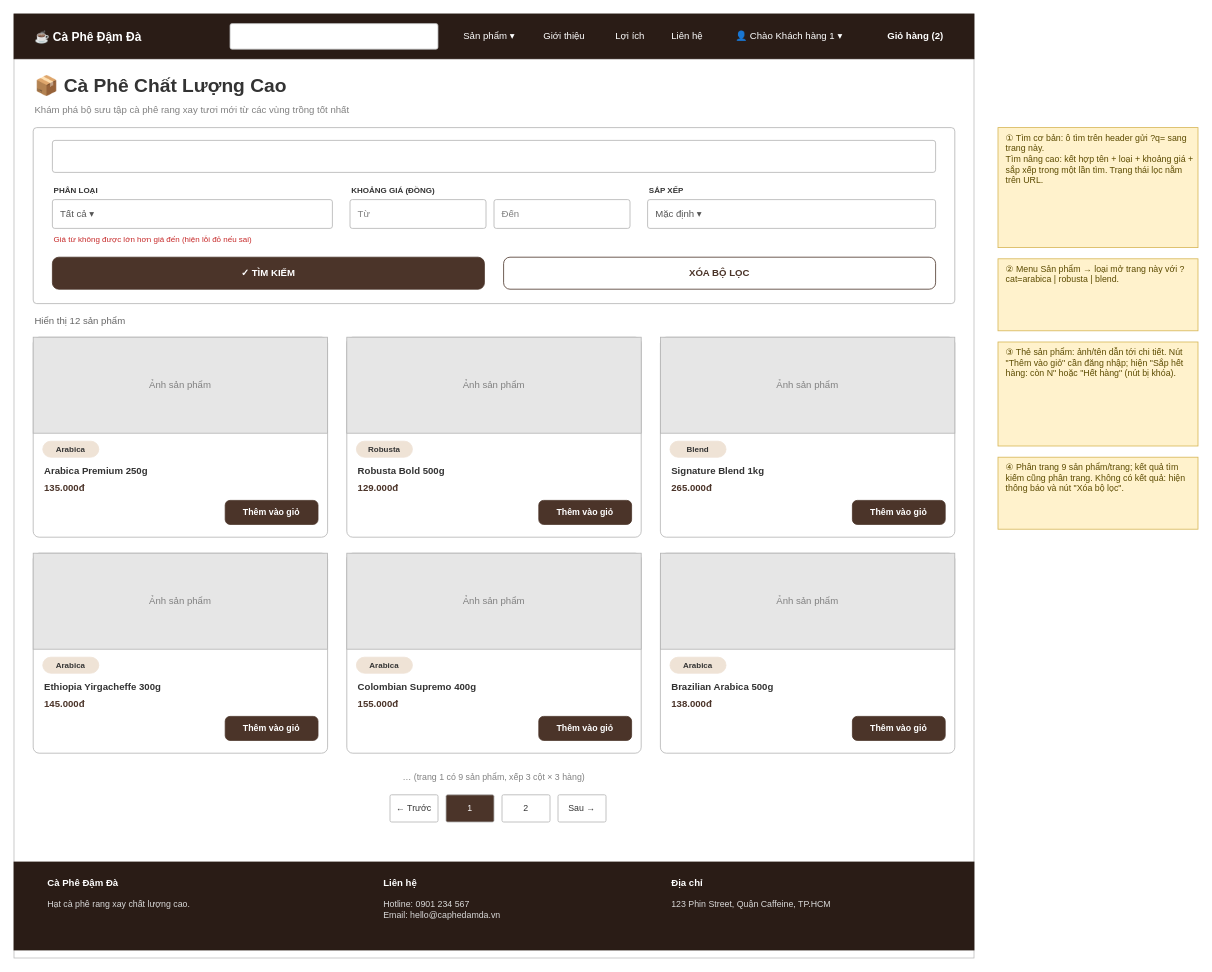
Some shapes in this 1212 by 972 pixel diagram are drawn without their labels. The shapes that lost their labels are listed below. From the top down, each one's centre as x and y in pixels, then its label:
the point at 333,36: Tìm sản phẩm theo tên...
the point at 494,156: 🔍 Tìm theo tên sản phẩm
